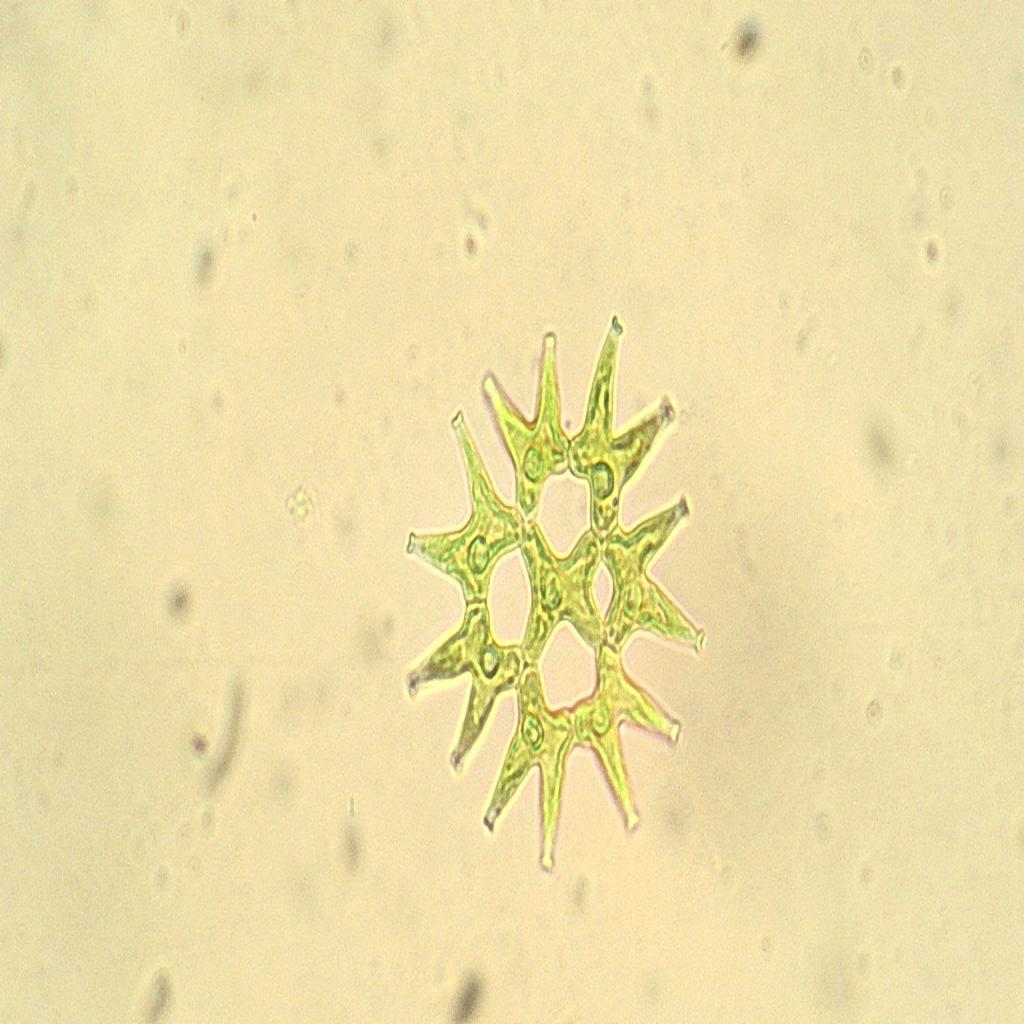Pediastrum_75T: (392, 293, 712, 893)
